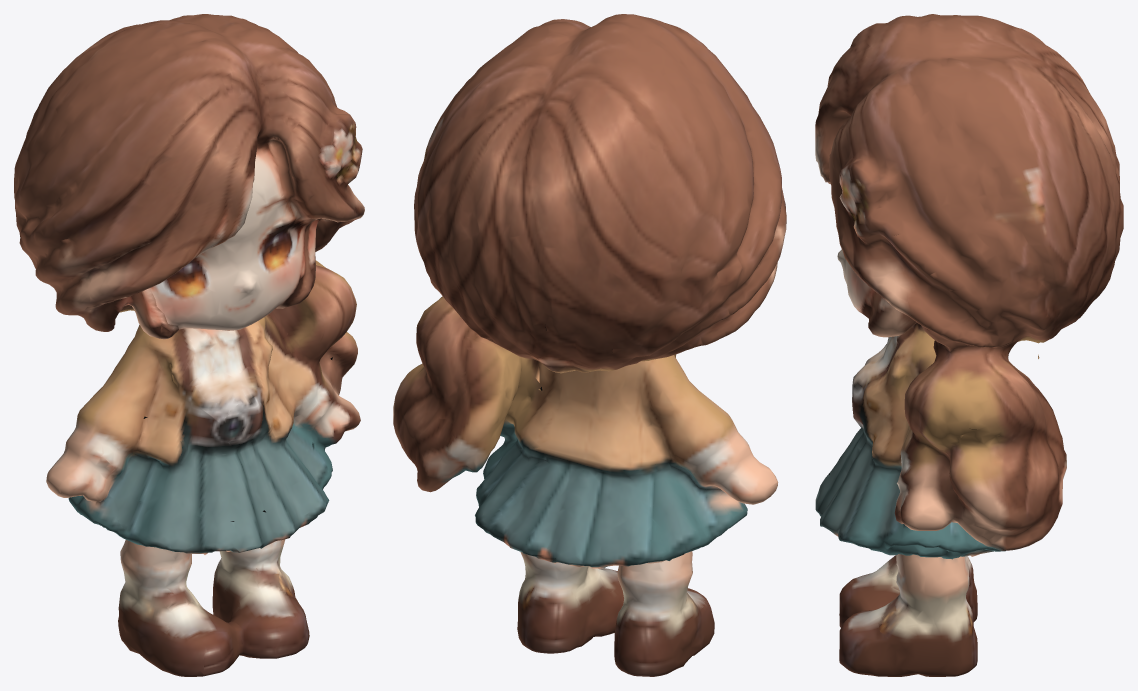
Rendered from tangli-compact-prototype-v2.glb.
The picture shows the model from 3 angles, left to right: view 1: azimuth 30°, elevation 25°; view 2: azimuth 150°, elevation 25°; view 3: azimuth 270°, elevation 25°; orthographic projection. The views are drawn at different scales.
Parts seen in each view (by area): view 1: TangLi_Compact_Prototype; view 2: TangLi_Compact_Prototype; view 3: TangLi_Compact_Prototype.
Part boxes in pixels (x1=…): TangLi_Compact_Prototype: x1=14, y1=14, x2=364, y2=676; TangLi_Compact_Prototype: x1=393, y1=14, x2=786, y2=676; TangLi_Compact_Prototype: x1=815, y1=14, x2=1123, y2=676.
Bounding box in the file's own units: 1.16 × 2 × 0.9109.
Materials: 1 (1 with a texture image).
